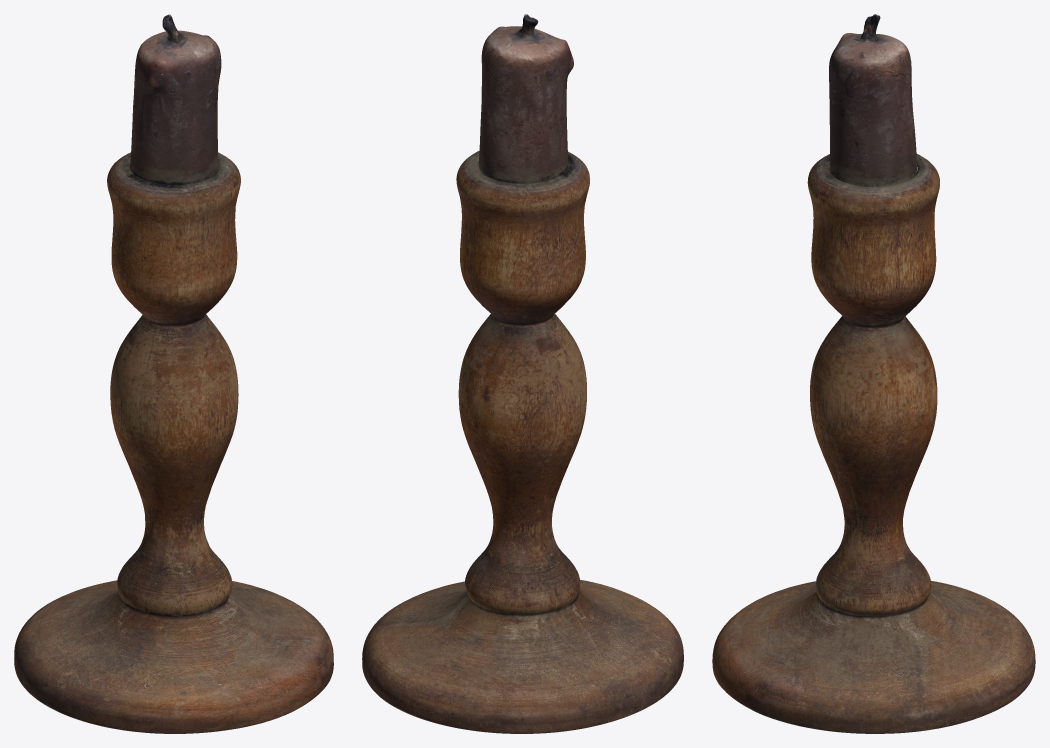
Rendered from wooden_candlestick_lod2.glb.
3 views of the same model, side by side, from view 1: azimuth 30°, elevation 25°; view 2: azimuth 150°, elevation 25°; view 3: azimuth 270°, elevation 25° (orthographic).
Parts seen in each view (by area): view 1: wooden_candlestick; view 2: wooden_candlestick; view 3: wooden_candlestick.
Part boxes in pixels (x1=…): wooden_candlestick: x1=14, y1=14, x2=333, y2=733; wooden_candlestick: x1=362, y1=14, x2=683, y2=733; wooden_candlestick: x1=712, y1=14, x2=1035, y2=733.
Size of the model in its own units: 0.0972 by 0.2197 by 0.0987.
1 material, 1 textured.
